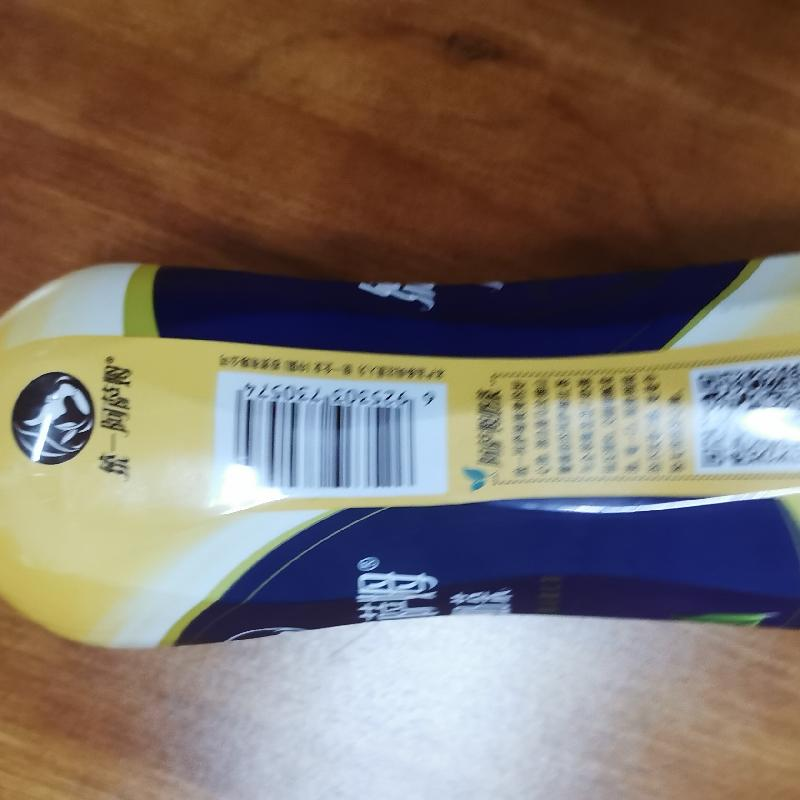bottles: (5, 238, 799, 655)
